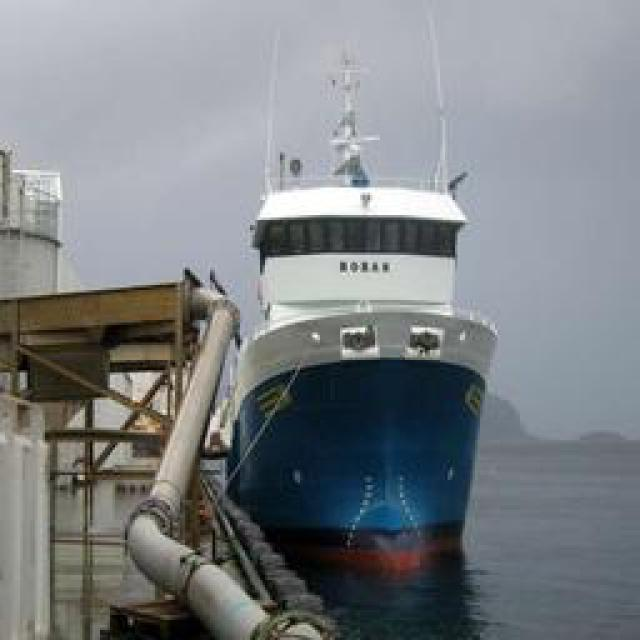Ship: (200, 14, 508, 589)
